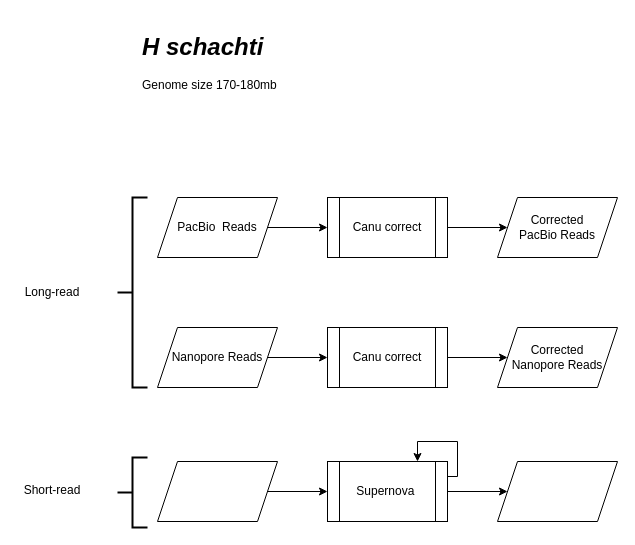
This 635x545 diagram has some shape labels left out. Here are the shapes that lost their labels. From the top down, the centre of each, then its label:
point 217,491: 10X Reads
point 557,491: Multiple 10X assemblies
